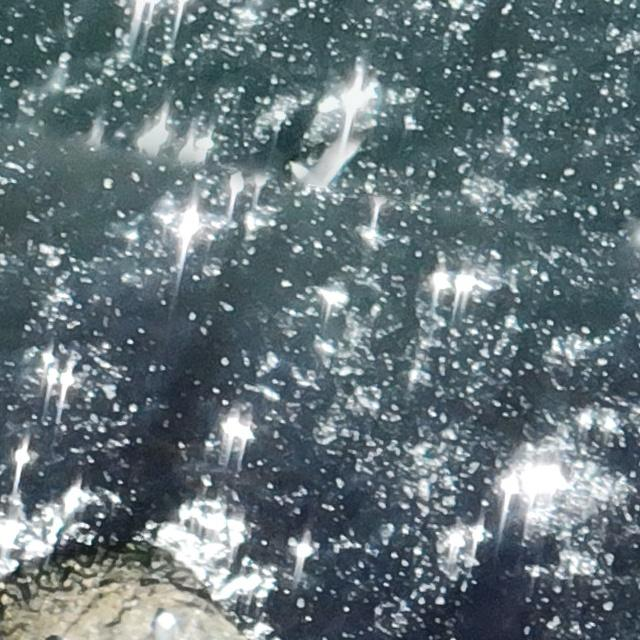umineko: (154, 611, 176, 639)
